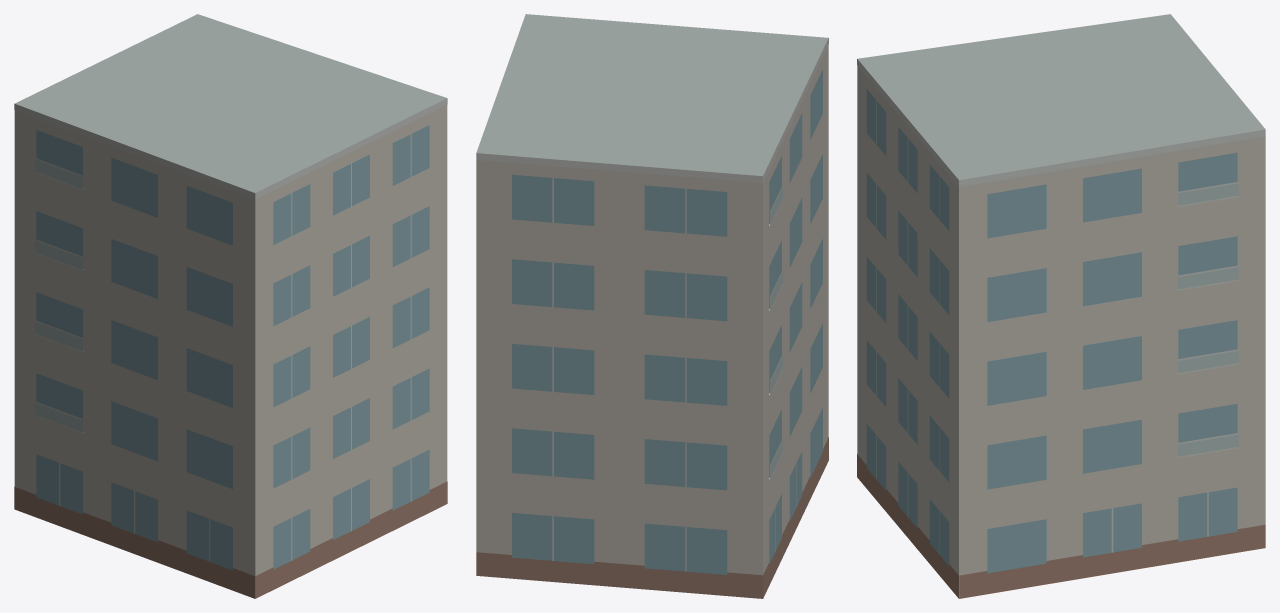
File: survey-upis-32749604.glb
3 views of the same model, side by side, from view 1: azimuth 30°, elevation 25°; view 2: azimuth 150°, elevation 25°; view 3: azimuth 270°, elevation 25° (orthographic). The views are drawn at different scales.
Parts seen in each view (by area): view 1: survey-upis-32749604.tmp; view 2: survey-upis-32749604.tmp; view 3: survey-upis-32749604.tmp.
Part boxes in pixels (left/top/right/bottom): survey-upis-32749604.tmp: left=14, top=14, right=447, bottom=598; survey-upis-32749604.tmp: left=476, top=14, right=828, bottom=598; survey-upis-32749604.tmp: left=857, top=14, right=1265, bottom=598.
Bounding box in the file's own units: 13 × 15.25 × 13.5.
